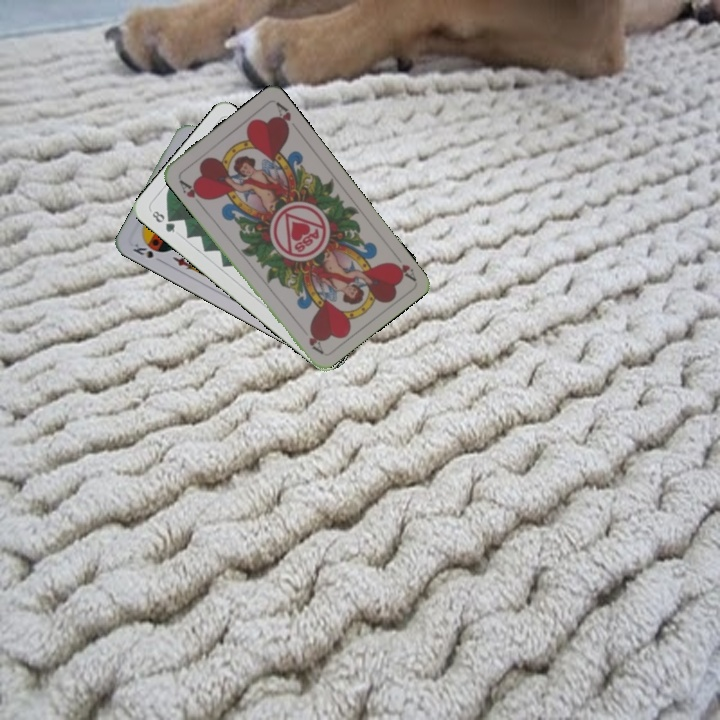G8: (148, 206, 178, 235)
HA: (175, 175, 209, 209), (387, 247, 418, 283)
SK: (129, 239, 156, 261)
